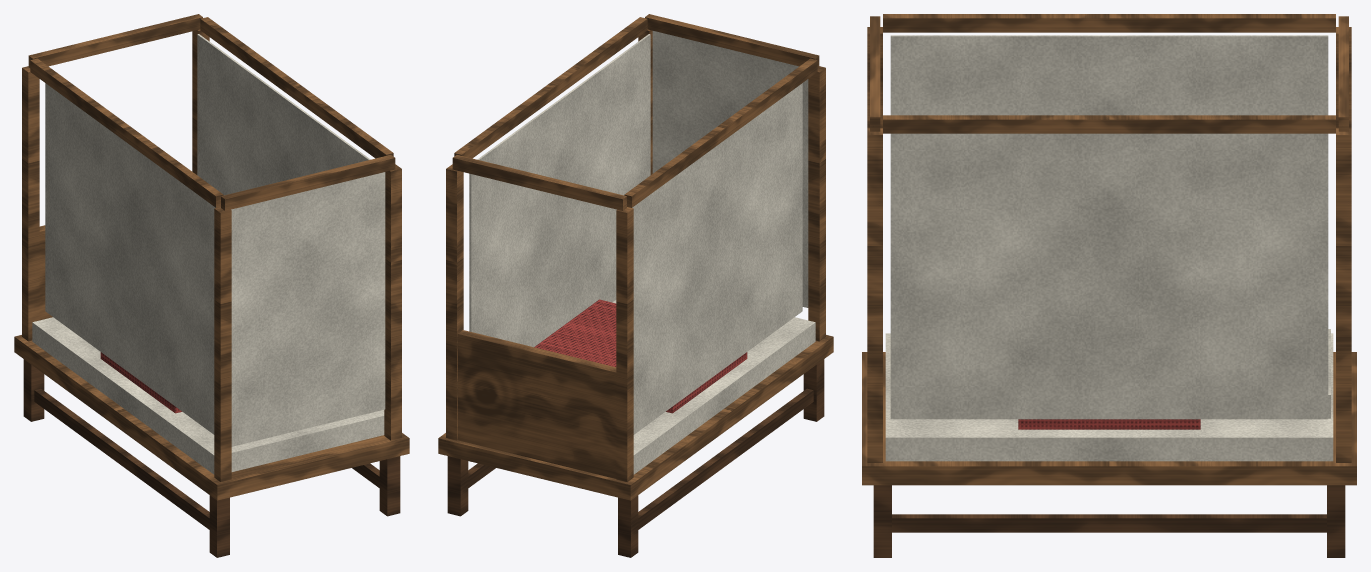
Rendered from bed.fbx.
3 renders of one model, left to right at view 1: azimuth 30°, elevation 25°; view 2: azimuth 150°, elevation 25°; view 3: azimuth 270°, elevation 25°, orthographic. The views are drawn at different scales.
Visible parts, largest first — view 1: bed; view 2: bed; view 3: bed.
Boxes of the visible parts, <box> form: bed: <box>14,14,409,557</box>; bed: <box>438,14,833,557</box>; bed: <box>862,14,1356,557</box>.
Size of the model in its own units: 104 by 185 by 190.
